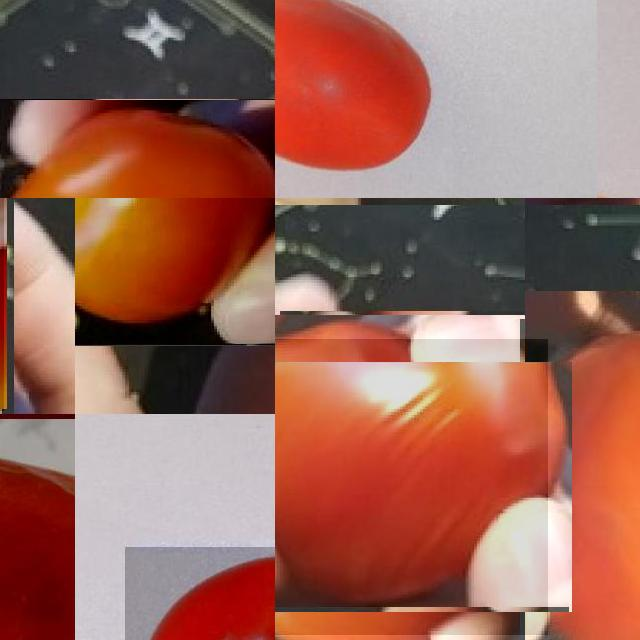Fresh Tomato: (525, 291, 640, 640), (275, 0, 452, 198), (75, 198, 275, 345), (0, 99, 275, 198), (125, 546, 275, 640)
Rotten Tomato: (275, 338, 548, 635)
